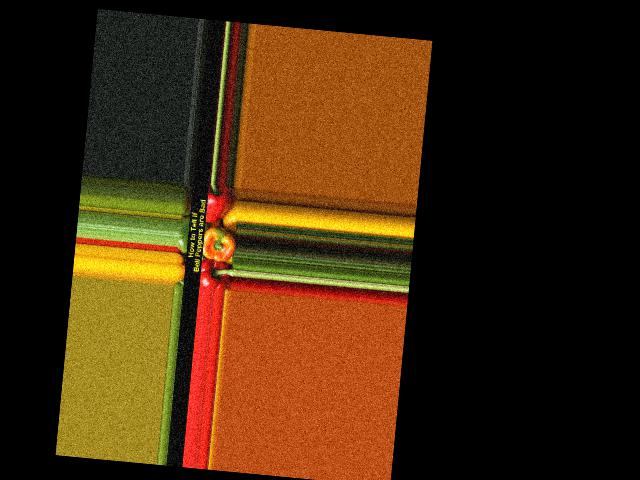bell_pepper: (197, 256, 234, 289)
